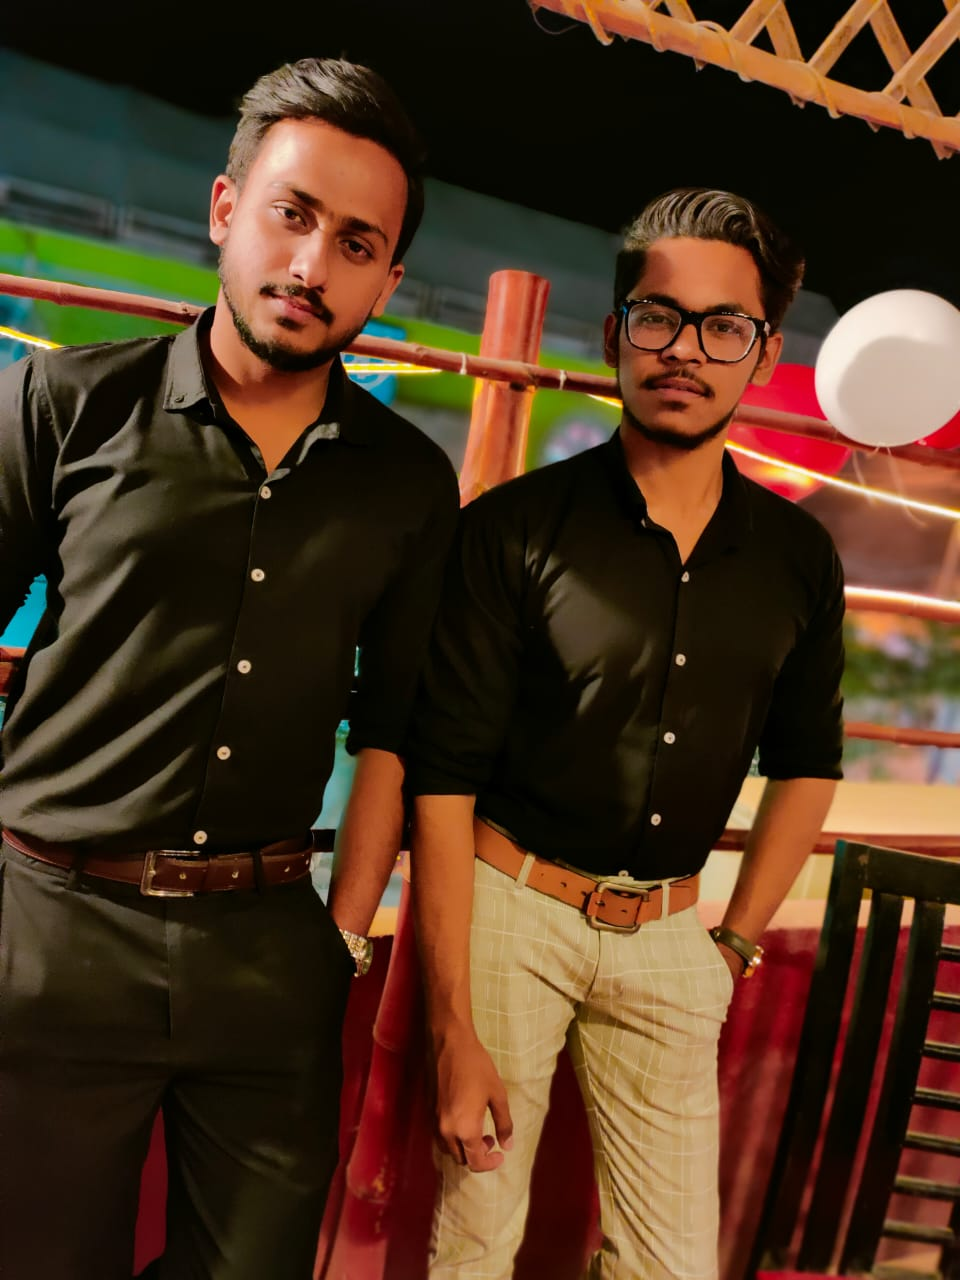NoMask: (228, 173, 393, 365), (621, 280, 760, 441)
